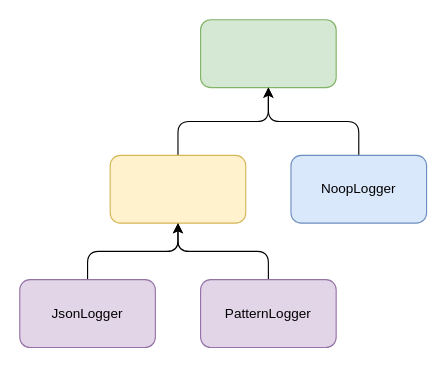
Some shapes in this 446 by 367 pixel diagram are drawn without their labels. Each missing label, with the box of its shape:
AbstractLogger: (109, 154, 246, 223)
ILog: (199, 19, 336, 88)
